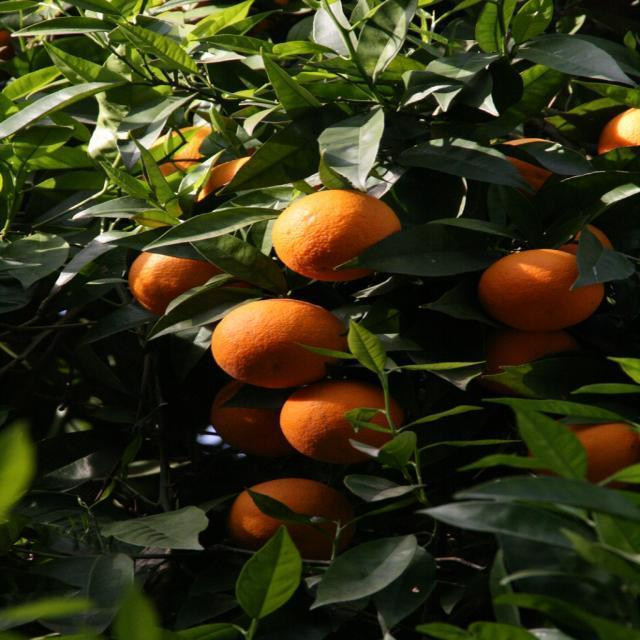Orange: (267, 189, 393, 287)
